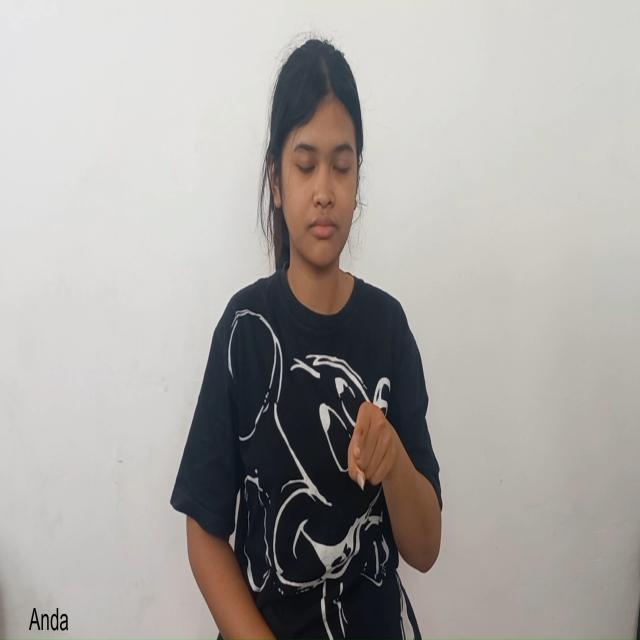Anda -BISINDO-: (326, 369, 433, 541)
